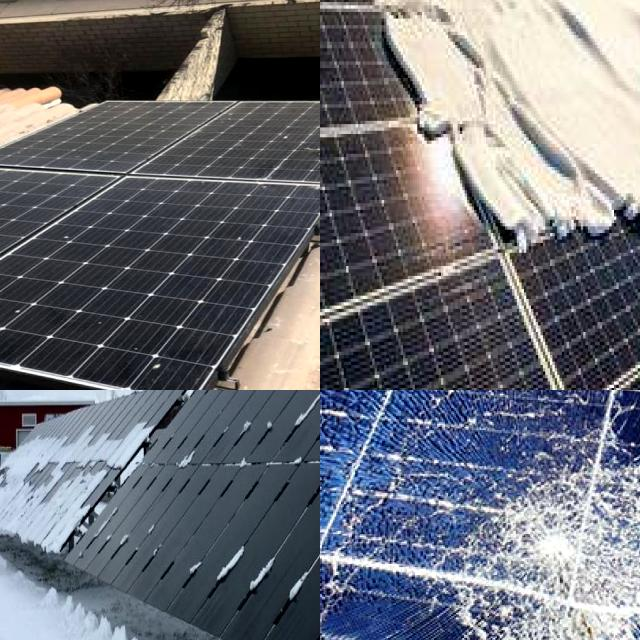dust: (120, 344, 218, 390), (281, 112, 320, 170)
hotspot: (473, 441, 640, 640), (320, 390, 449, 528), (500, 390, 640, 457), (320, 602, 446, 640)
panel: (417, 112, 584, 248), (323, 0, 461, 108), (579, 164, 640, 240), (320, 0, 396, 59), (76, 423, 152, 480), (248, 528, 284, 616), (0, 484, 62, 534), (213, 536, 261, 599), (15, 432, 70, 476), (280, 564, 316, 622), (281, 390, 320, 425), (260, 451, 308, 479), (63, 502, 99, 532), (242, 410, 281, 436), (176, 451, 210, 479), (232, 454, 264, 482), (182, 554, 211, 582), (0, 445, 16, 490), (144, 526, 160, 547), (118, 532, 132, 550)
